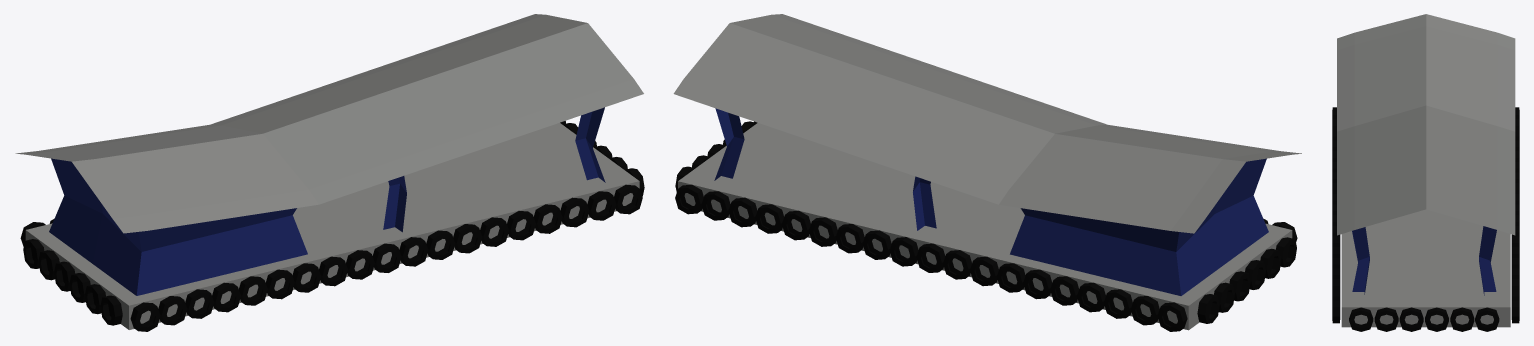
The model's file is flutuante1-1.fbx.
3 renders of one model, left to right at view 1: azimuth 30°, elevation 25°; view 2: azimuth 150°, elevation 25°; view 3: azimuth 270°, elevation 25°, orthographic. The views are drawn at different scales.
Parts seen in each view (by area): view 1: Cube.109; view 2: Cube.109; view 3: Cube.109.
Boxes of the visible parts, x1=… form: Cube.109: x1=15, y1=14, x2=644, y2=331; Cube.109: x1=673, y1=14, x2=1301, y2=331; Cube.109: x1=1332, y1=14, x2=1519, y2=331.
Size of the model in its own units: 2276 by 598 by 854.
